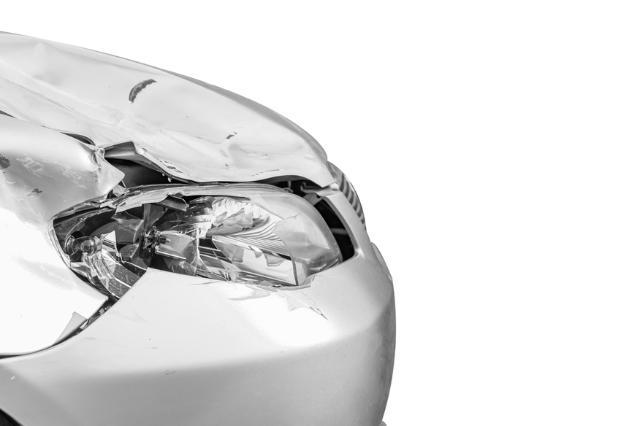Light: (39, 174, 379, 292)
